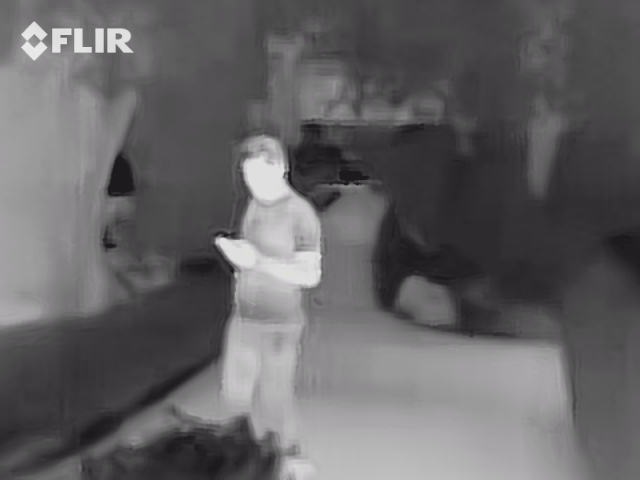head: (235, 133, 291, 205)
